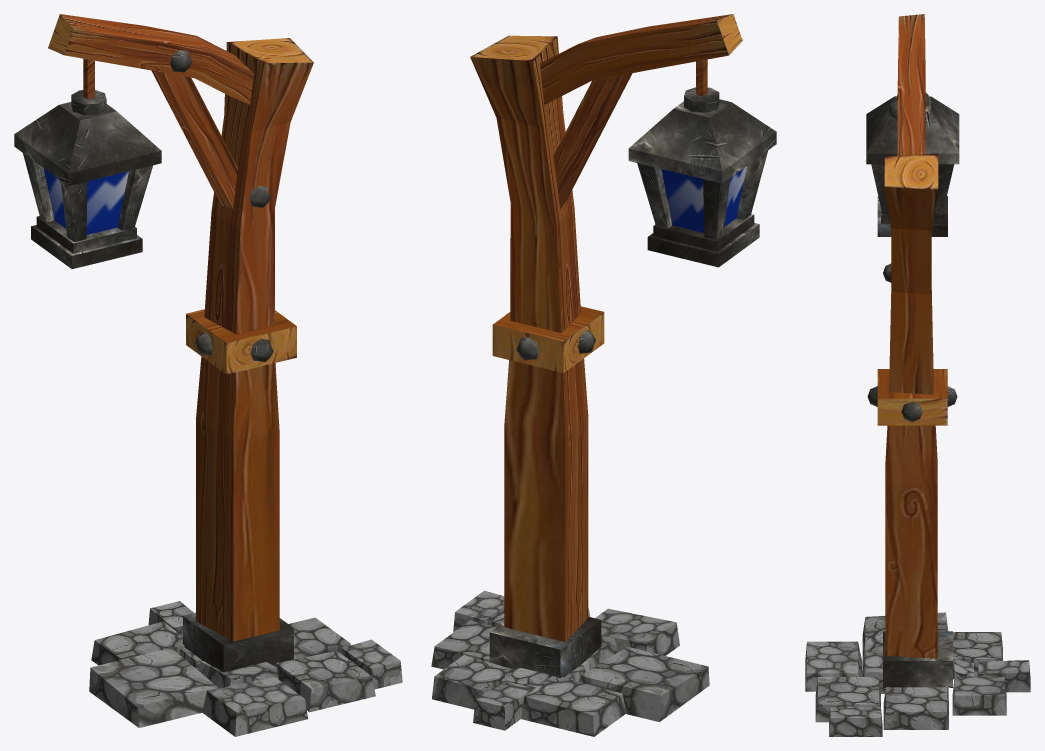
Rendered from BigLamp.fbx.
3 views of the same model, side by side, from view 1: azimuth 30°, elevation 25°; view 2: azimuth 150°, elevation 25°; view 3: azimuth 270°, elevation 25° (orthographic). The views are drawn at different scales.
Parts seen in each view (by area): view 1: Fonar_01; view 2: Fonar_01; view 3: Fonar_01.
Part boxes in pixels (x1,y1,x2,y2): Fonar_01: (14, 14, 402, 736); Fonar_01: (431, 14, 776, 736); Fonar_01: (805, 14, 1030, 736).
Size of the model in its own units: 1051 by 2246 by 761.
1 material, 1 textured.
